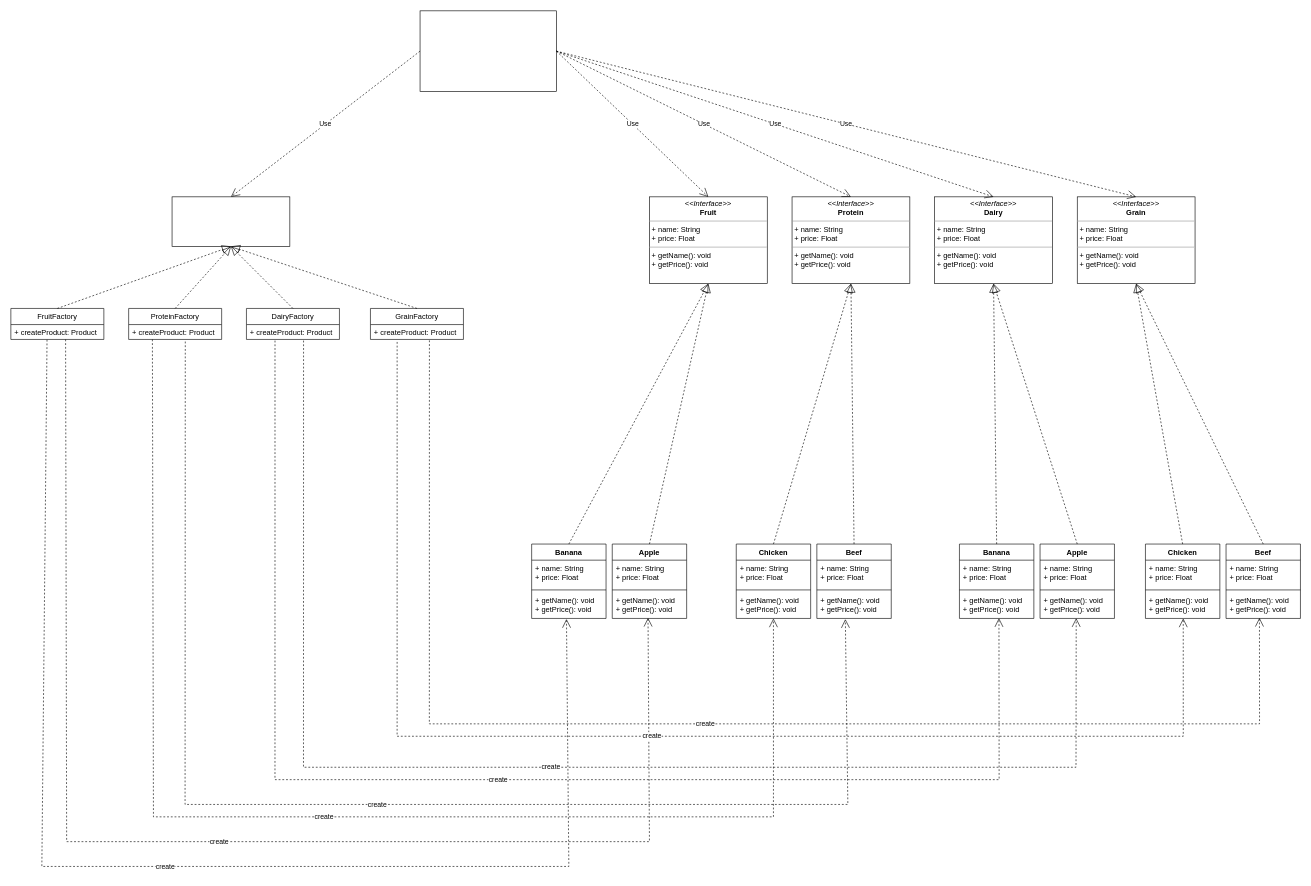
The diagram is 1311 pixels wide and 886 high, and some of its shapes have lost their labels. Each missing label, with the centre of its shape:
<<Interface>> GroceryProductFactory + createProduct: Product: the point at 230,221
Client: the point at 487,50
